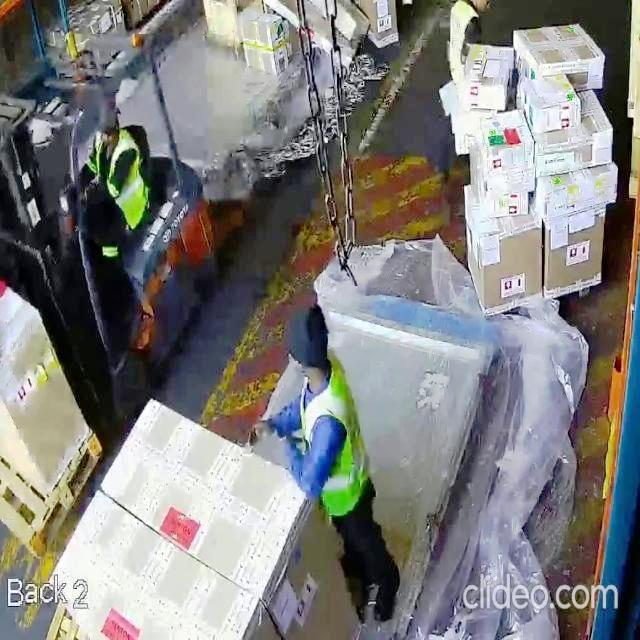Box: (116, 414, 312, 566), (50, 511, 246, 640), (464, 217, 544, 300), (543, 216, 604, 295), (515, 26, 603, 80), (240, 1, 303, 76), (477, 114, 535, 172), (457, 40, 507, 106), (546, 135, 617, 171), (546, 175, 618, 208), (528, 76, 574, 122)
